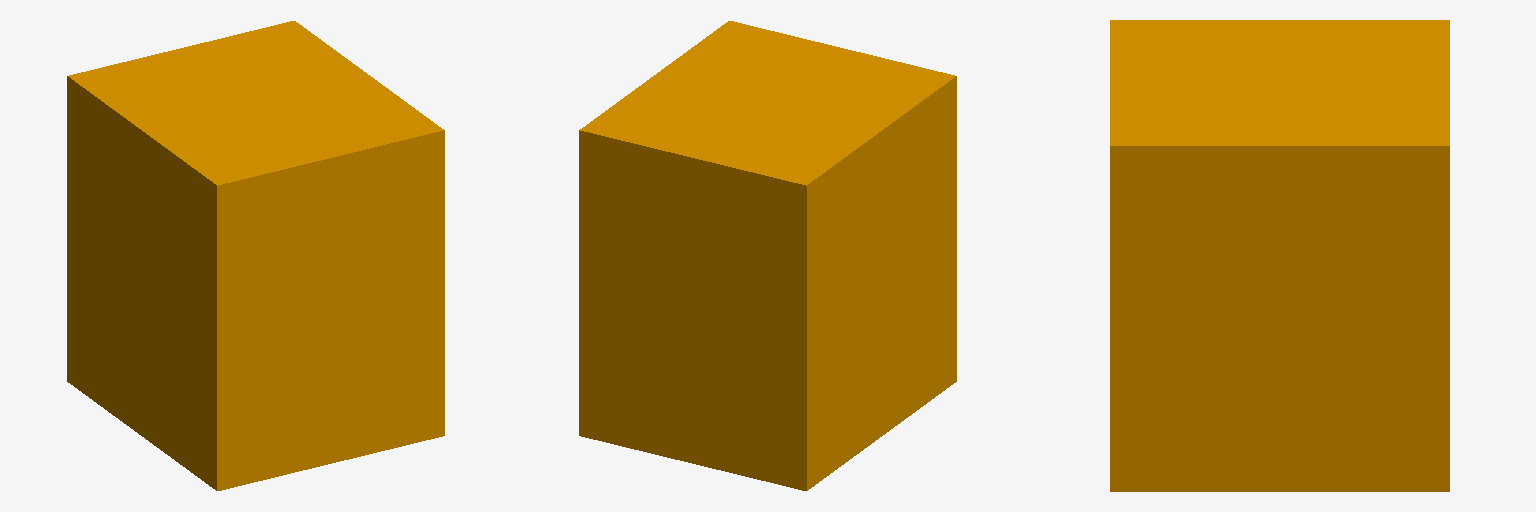
The robot description file, URDF, robot "mediumbox":
<?xml version="1.0"?>
<robot name="mediumbox">
<link name="mediumbox">
    <visual>
      <geometry>
        <mesh filename="package://uwds3/models/cad_models/obj/mediumbox.obj"/>
      </geometry>
      <origin rpy="0 0 0" xyz="0 0 0"/>
    </visual>
    <collision>
      <geometry>
      <box size="0.280 0.360 0.320"/> 
      </geometry>
      <origin rpy="0 0 0" xyz="0 0 -0"/>
      <contact_coefficients mu="1000.0" kp="0.00" kd="0.0"/>
    </collision>
   
    <inertial>
      <mass value="0.7"/>
      <inertia ixx="0.001" ixy="0.0" ixz="0.0"
               iyy="0.001" iyz="0.0"
               izz="0.001"/>
    </inertial>
</link>

</robot>

--- Facts derived from the render (not from the file) ---
The picture shows the robot from 3 angles, left to right: view 1: azimuth 30°, elevation 25°; view 2: azimuth 150°, elevation 25°; view 3: azimuth 270°, elevation 25°; orthographic projection.
Robot: mediumbox — 1 links, 0 joints (none); root link mediumbox; default pose: all joints at 0.
Links seen in each view (by area): view 1: mediumbox; view 2: mediumbox; view 3: mediumbox.
Boxes of the visible links, bbox=[...] form: mediumbox: bbox=[67, 21, 444, 490]; mediumbox: bbox=[579, 21, 956, 490]; mediumbox: bbox=[1110, 20, 1449, 491].
Size in the robot's own frame: 0.56 by 0.64 by 0.72 metres.
1 mesh visuals loaded from 1 distinct referenced files (1 OBJ).